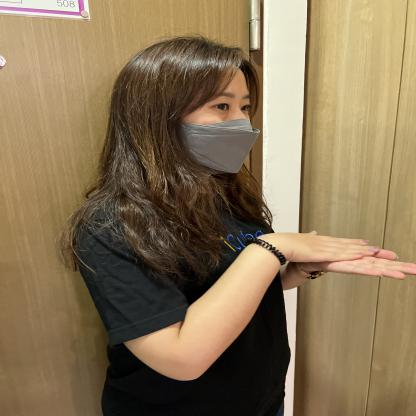Love: (167, 199, 415, 317)
